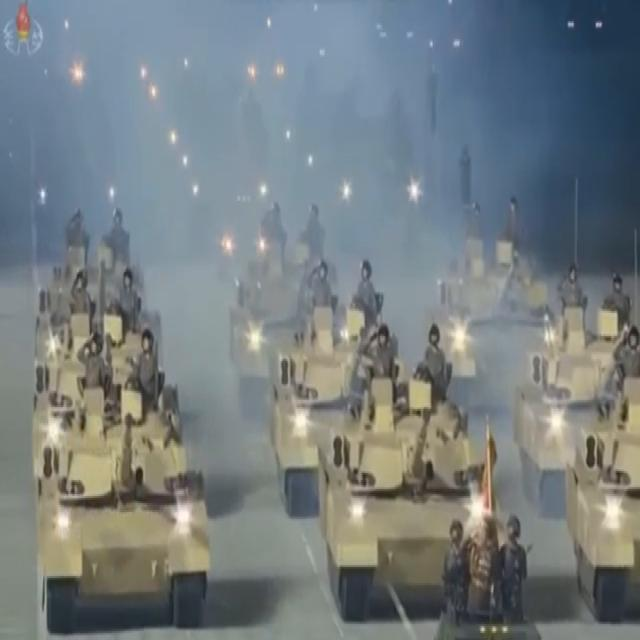north tank: (318, 373, 522, 640), (44, 378, 235, 640), (254, 253, 443, 504), (515, 255, 640, 515), (560, 377, 640, 640)
